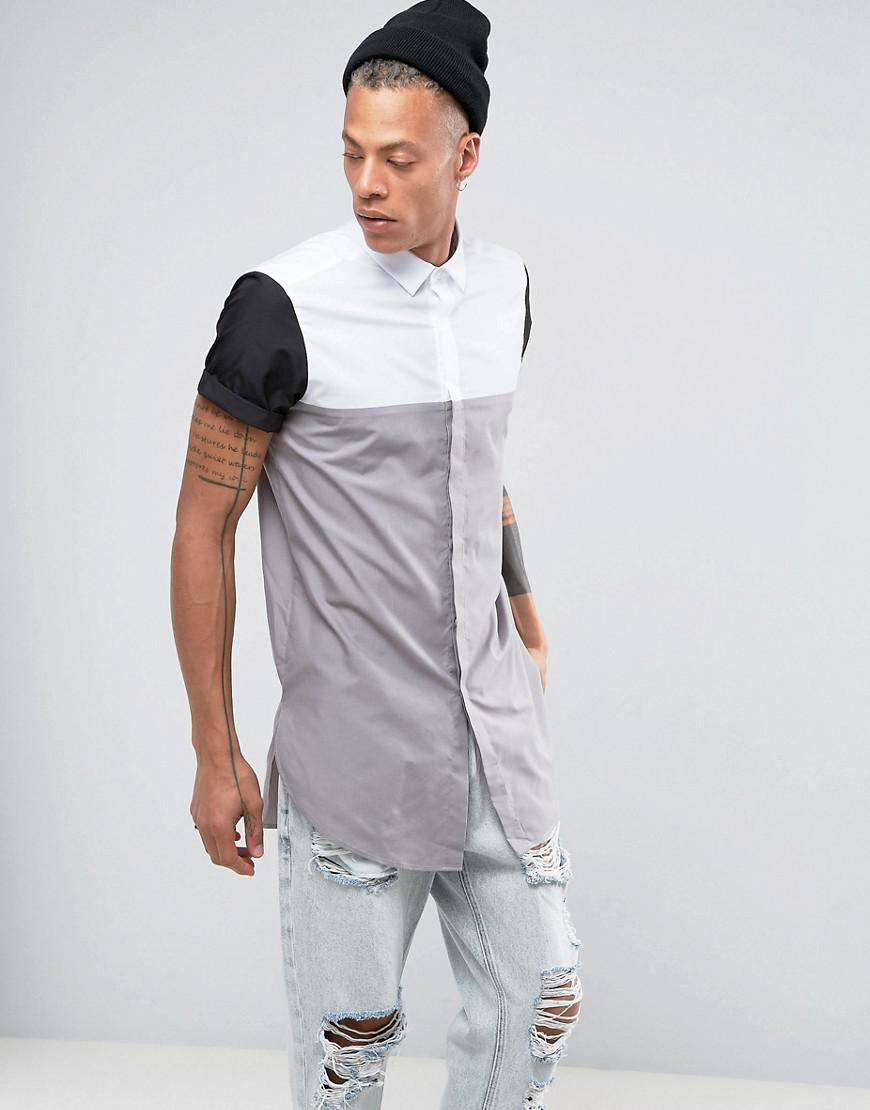teeshirt: (185, 234, 601, 879)
